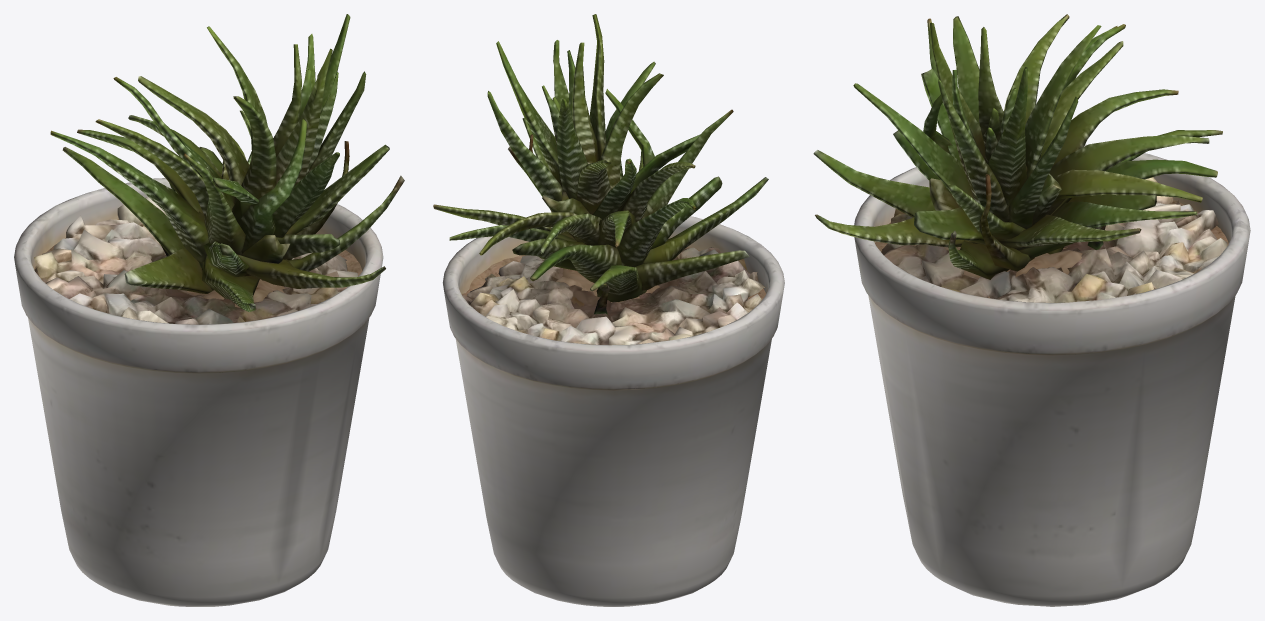
The model's file is potted_plant_04.glb.
3 views of the same model, side by side, from view 1: azimuth 30°, elevation 25°; view 2: azimuth 150°, elevation 25°; view 3: azimuth 270°, elevation 25° (orthographic). The views are drawn at different scales.
Visible parts, largest first — view 1: potted_plant_04_ground; view 2: potted_plant_04_ground; view 3: potted_plant_04_ground.
Boxes of the visible parts, x1=… form: potted_plant_04_ground: x1=14, y1=14, x2=404, y2=606; potted_plant_04_ground: x1=433, y1=14, x2=784, y2=606; potted_plant_04_ground: x1=813, y1=14, x2=1250, y2=606.
Bounding box in the file's own units: 0.1679 × 0.2673 × 0.1848.
Materials: 1 (1 with a texture image).
